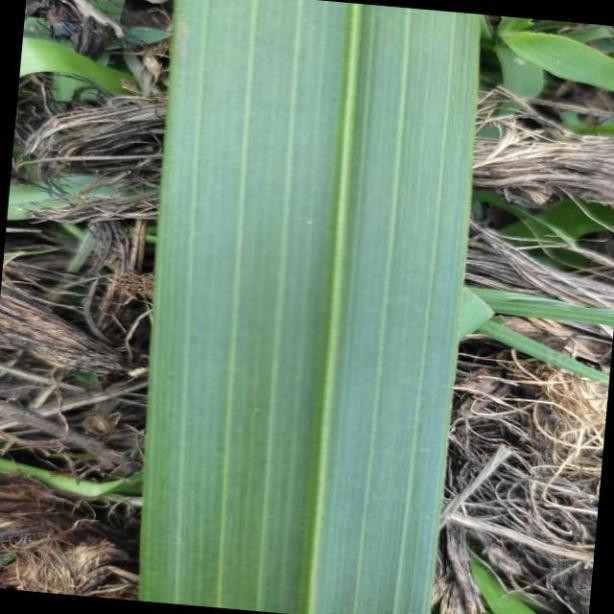Healthy: (142, 0, 484, 614)
